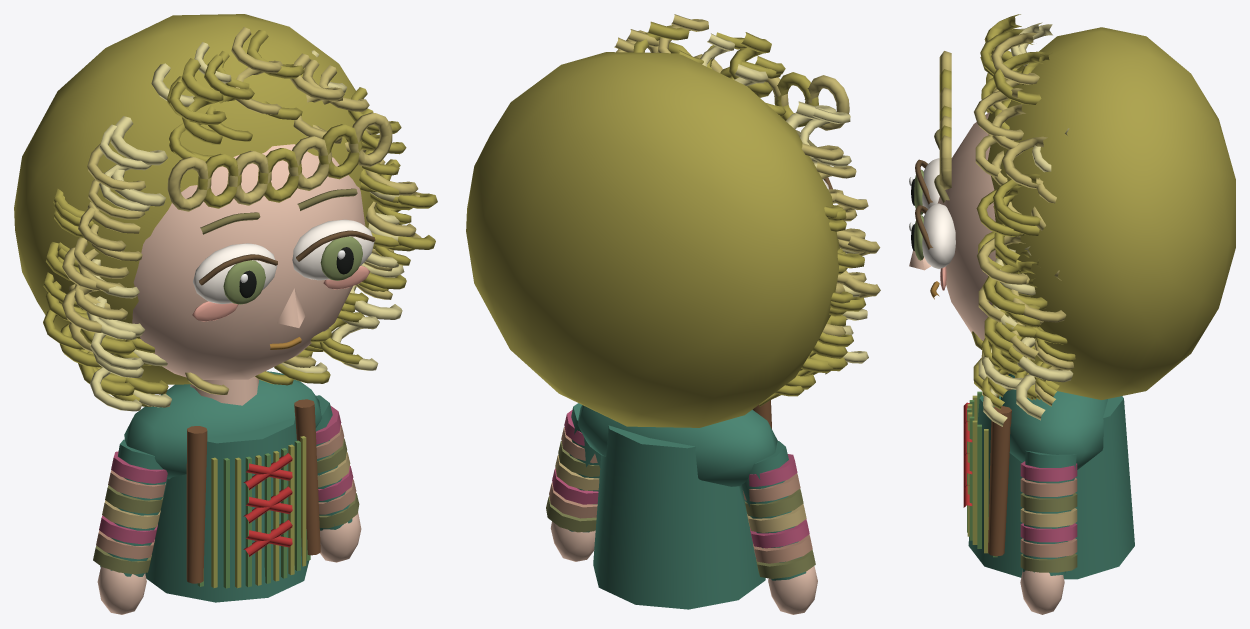
Rendered from yarn-doll.glb.
3 views of the same model, side by side, from view 1: azimuth 30°, elevation 25°; view 2: azimuth 150°, elevation 25°; view 3: azimuth 270°, elevation 25° (orthographic). The views are drawn at different scales.
Visible parts, largest first — view 1: Yarn_Hair_Mass, Face, Torso, Curly_Fringe (×7), Shoulders, Woven_Vest_Stripe (×9), Sleeve_Woven_Band (×8), Vest_Edge (×2), Sclera (×2), Hand (×2), Iris (×2), Yarn_Curl_70 (+39 smaller); view 2: Yarn_Hair_Mass, Torso, Sleeve_Woven_Band (×12), Shoulders, Hand (×2), Curly_Fringe (×2), Sleeve_Left, Yarn_Curl_32, Yarn_Curl_45, Yarn_Curl_39, Yarn_Curl_8, Yarn_Curl_47 (+7 smaller); view 3: Yarn_Hair_Mass, Torso, Face, Sleeve_Woven_Band (×7), Shoulders, Vest_Edge, Woven_Vest_Stripe (×4), Sclera (×2), Yarn_Curl_18, Hand, Yarn_Curl_59, Yarn_Curl_25 (+20 smaller).
Part boxes in pixels (x1,y1,x2,y2): Yarn_Hair_Mass: (14, 14, 379, 384); Face: (132, 144, 365, 379); Torso: (145, 417, 309, 602); Curly_Fringe (×7): (167, 112, 392, 211); Shoulders: (124, 371, 321, 479); Woven_Vest_Stripe (×9): (211, 436, 306, 588); Sleeve_Woven_Band (×8): (93, 451, 359, 574); Vest_Edge (×2): (186, 399, 320, 583); Sclera (×2): (193, 219, 374, 303); Hand (×2): (97, 512, 361, 614); Iris (×2): (223, 236, 362, 304); Yarn_Curl_70: (110, 116, 167, 206); Yarn_Hair_Mass: (466, 52, 839, 427); Torso: (593, 425, 765, 609); Sleeve_Woven_Band (×12): (546, 441, 815, 578); Shoulders: (577, 405, 777, 486); Hand (×2): (550, 521, 817, 614); Curly_Fringe (×2): (774, 72, 849, 130); Sleeve_Left: (739, 441, 806, 580); Yarn_Curl_32: (729, 32, 772, 97); Yarn_Curl_45: (800, 107, 851, 167); Yarn_Curl_39: (842, 235, 880, 297); Yarn_Curl_8: (633, 21, 689, 52); Yarn_Curl_47: (830, 253, 865, 311); Yarn_Hair_Mass: (987, 27, 1235, 399); Torso: (968, 395, 1134, 579); Face: (937, 112, 995, 340); Sleeve_Woven_Band (×7): (1020, 461, 1077, 572); Shoulders: (1000, 373, 1107, 469); Vest_Edge: (988, 406, 1011, 556); Woven_Vest_Stripe (×4): (969, 416, 988, 553); Sclera (×2): (922, 158, 955, 268); Yarn_Curl_18: (974, 88, 1023, 177); Hand: (1020, 570, 1064, 614); Yarn_Curl_59: (982, 261, 1039, 353); Yarn_Curl_25: (1016, 337, 1073, 420).
Bounding box in the file's own units: 2.19 × 3.2 × 1.77.
